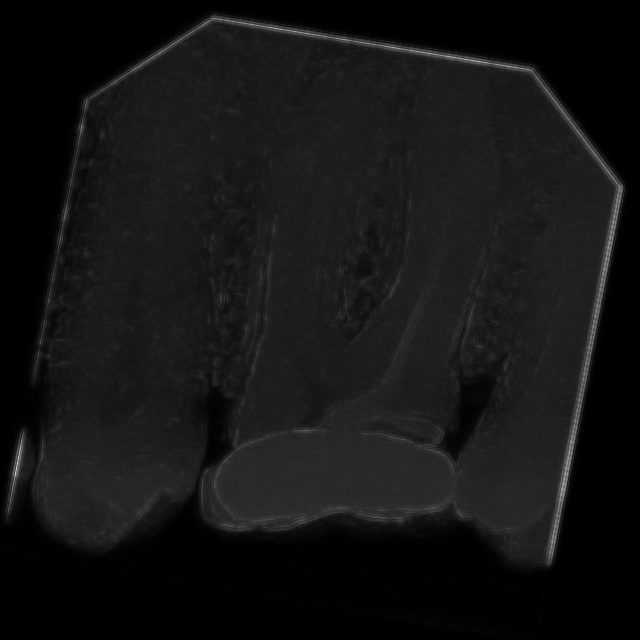Class 2- incomplete endodontic treatment: (149, 22, 552, 565)
